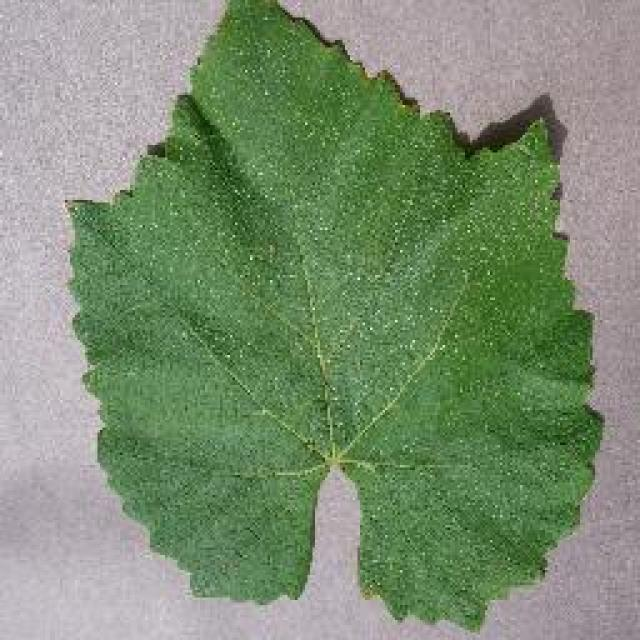Grape___healthy: (54, 0, 613, 638)
